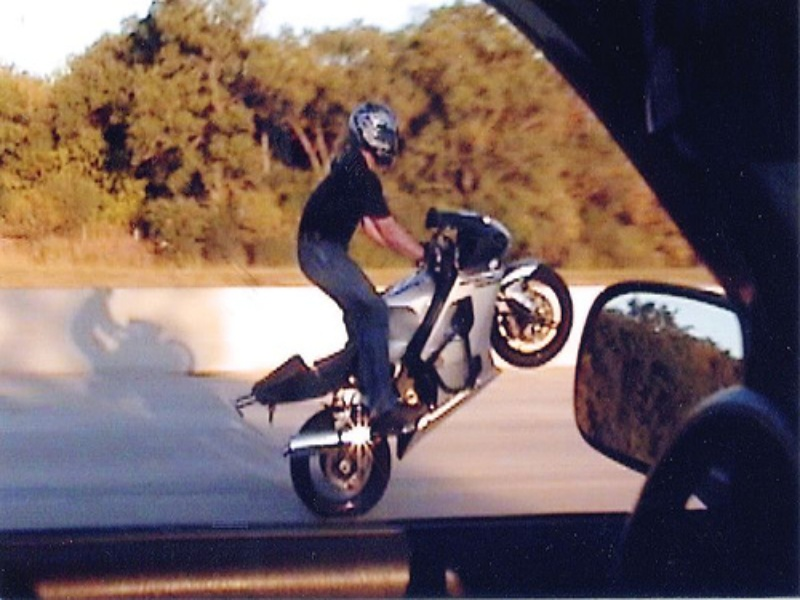person: (300, 104, 439, 434)
